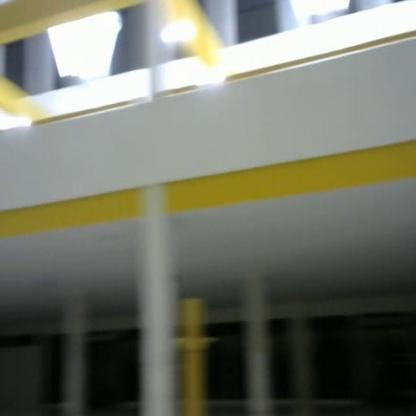pole: (166, 288, 221, 416)
